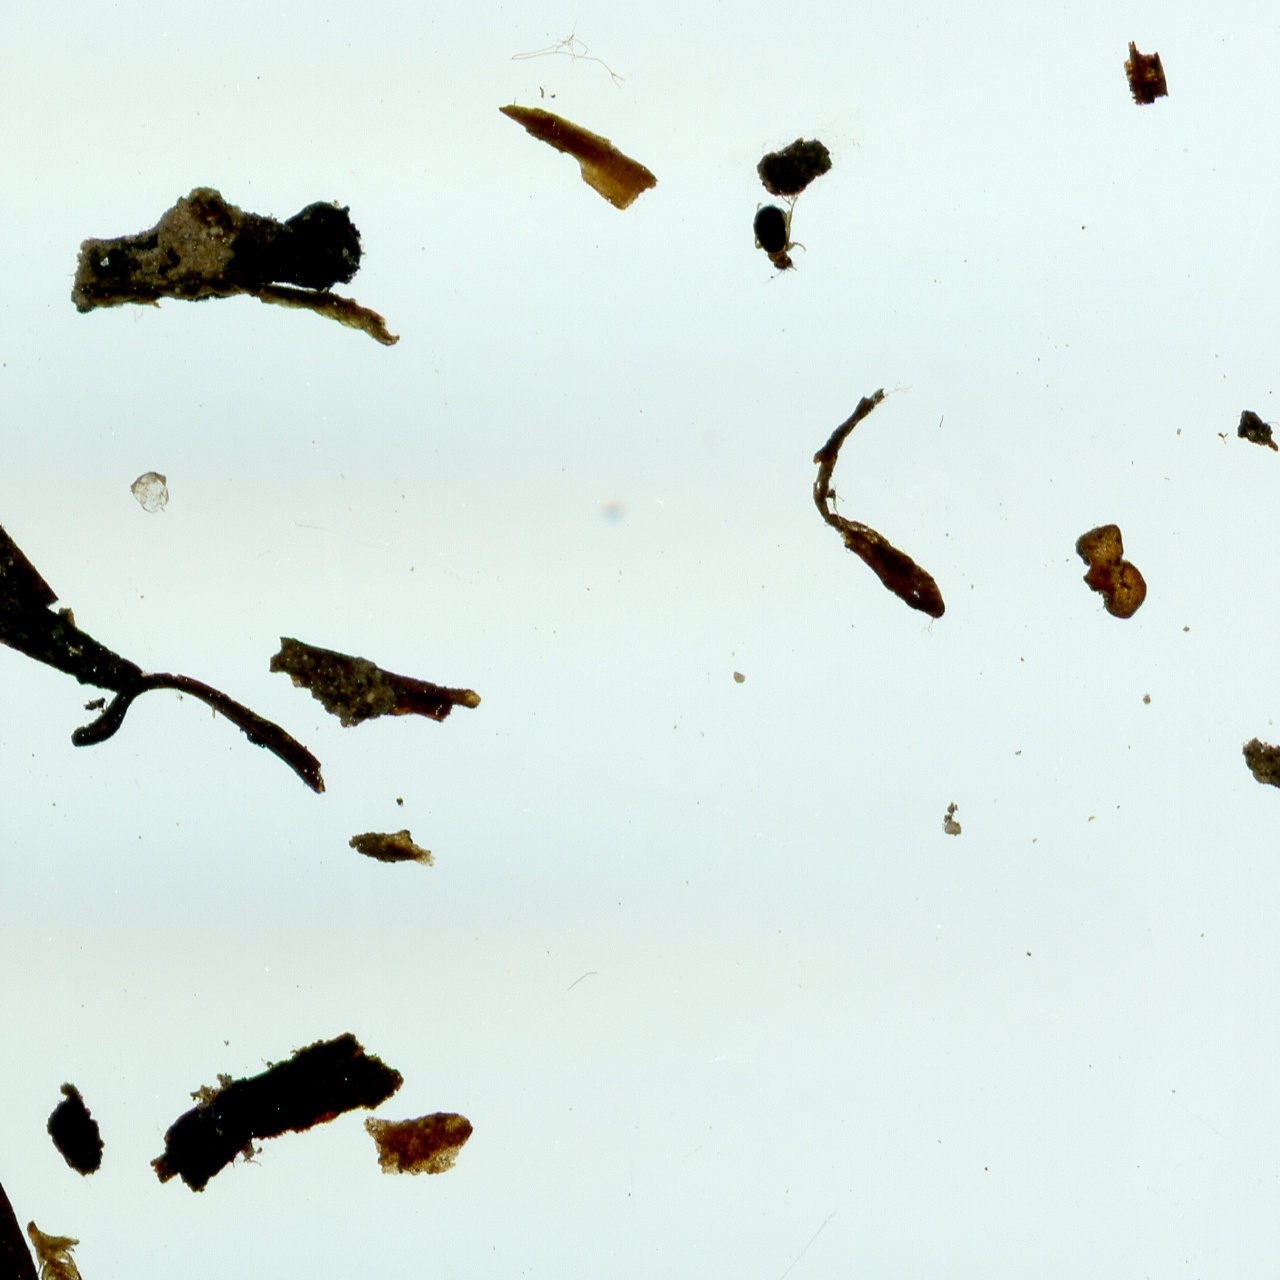arthropod: (749, 191, 811, 290)
